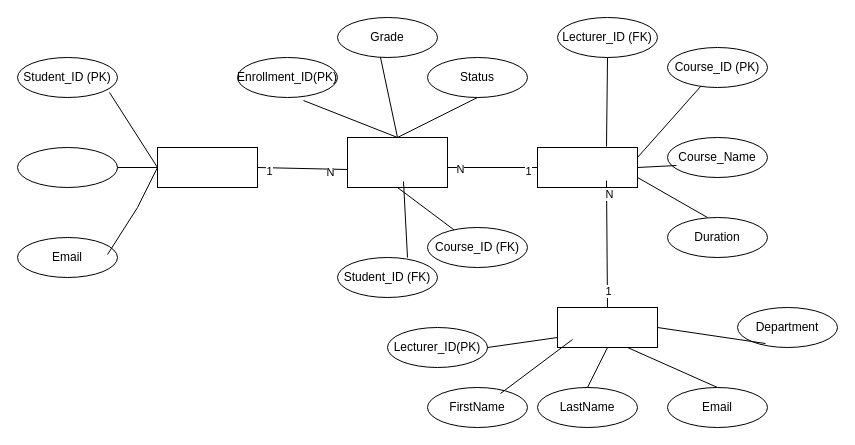
The diagram is 855 pixels wide and 445 high, and some of its shapes have lost their labels. Each missing label, with the centre of its shape:
Course: pixel 587 167
Enrollment: pixel 397 162
Lecturer: pixel 607 327
Name: pixel 67 167
Student: pixel 207 167
